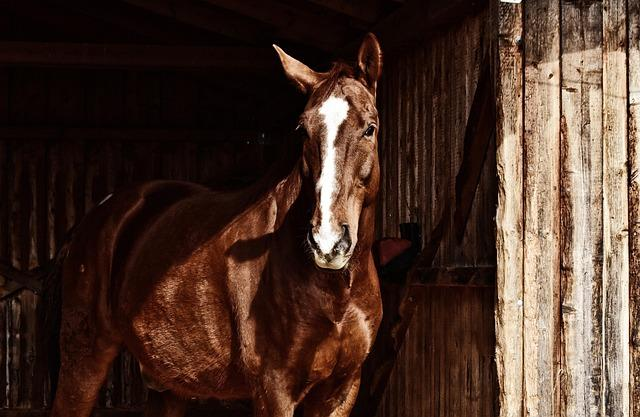Non_Gorille: (143, 10, 431, 417)
